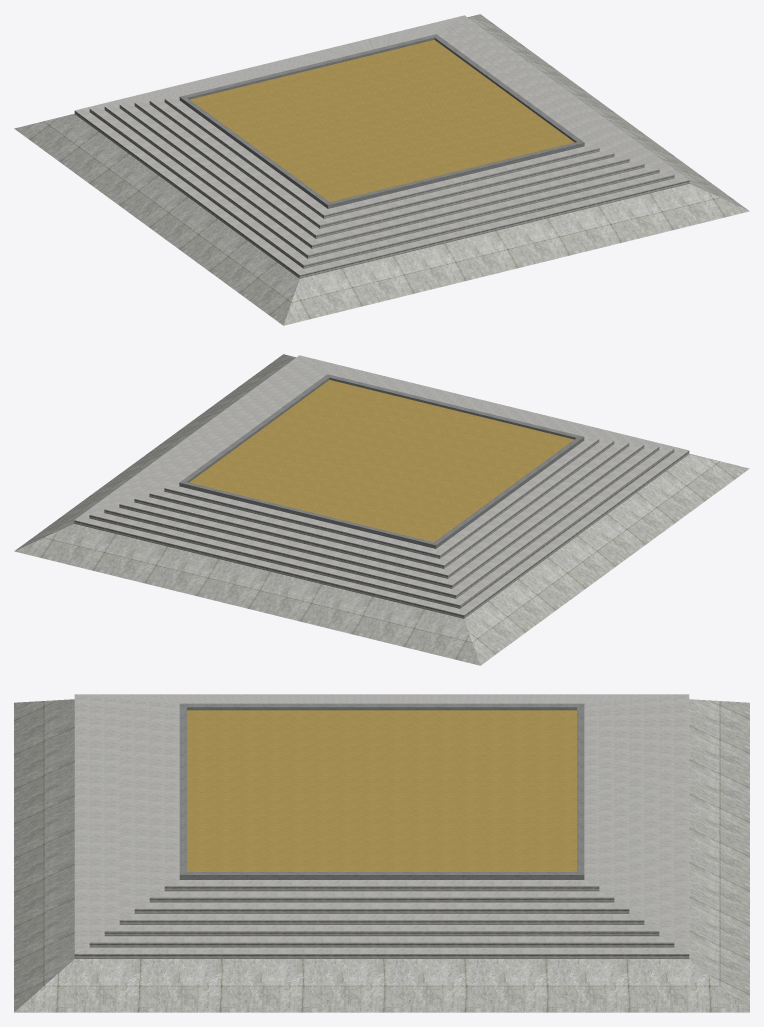
The model's file is ply_corl_garden_lrg_s01_l0.fbx.
3 views of the same model, one above another, from view 1: azimuth 30°, elevation 25°; view 2: azimuth 150°, elevation 25°; view 3: azimuth 270°, elevation 25° (orthographic). The views are drawn at different scales.
Parts seen in each view (by area): view 1: mesh_node; view 2: mesh_node; view 3: mesh_node.
Part boxes in pixels (x1=…): mesh_node: x1=14, y1=14, x2=749, y2=325; mesh_node: x1=14, y1=354, x2=749, y2=665; mesh_node: x1=14, y1=694, x2=749, y2=1012.
Bounding box in the file's own units: 49.05 × 5.07 × 49.07.
